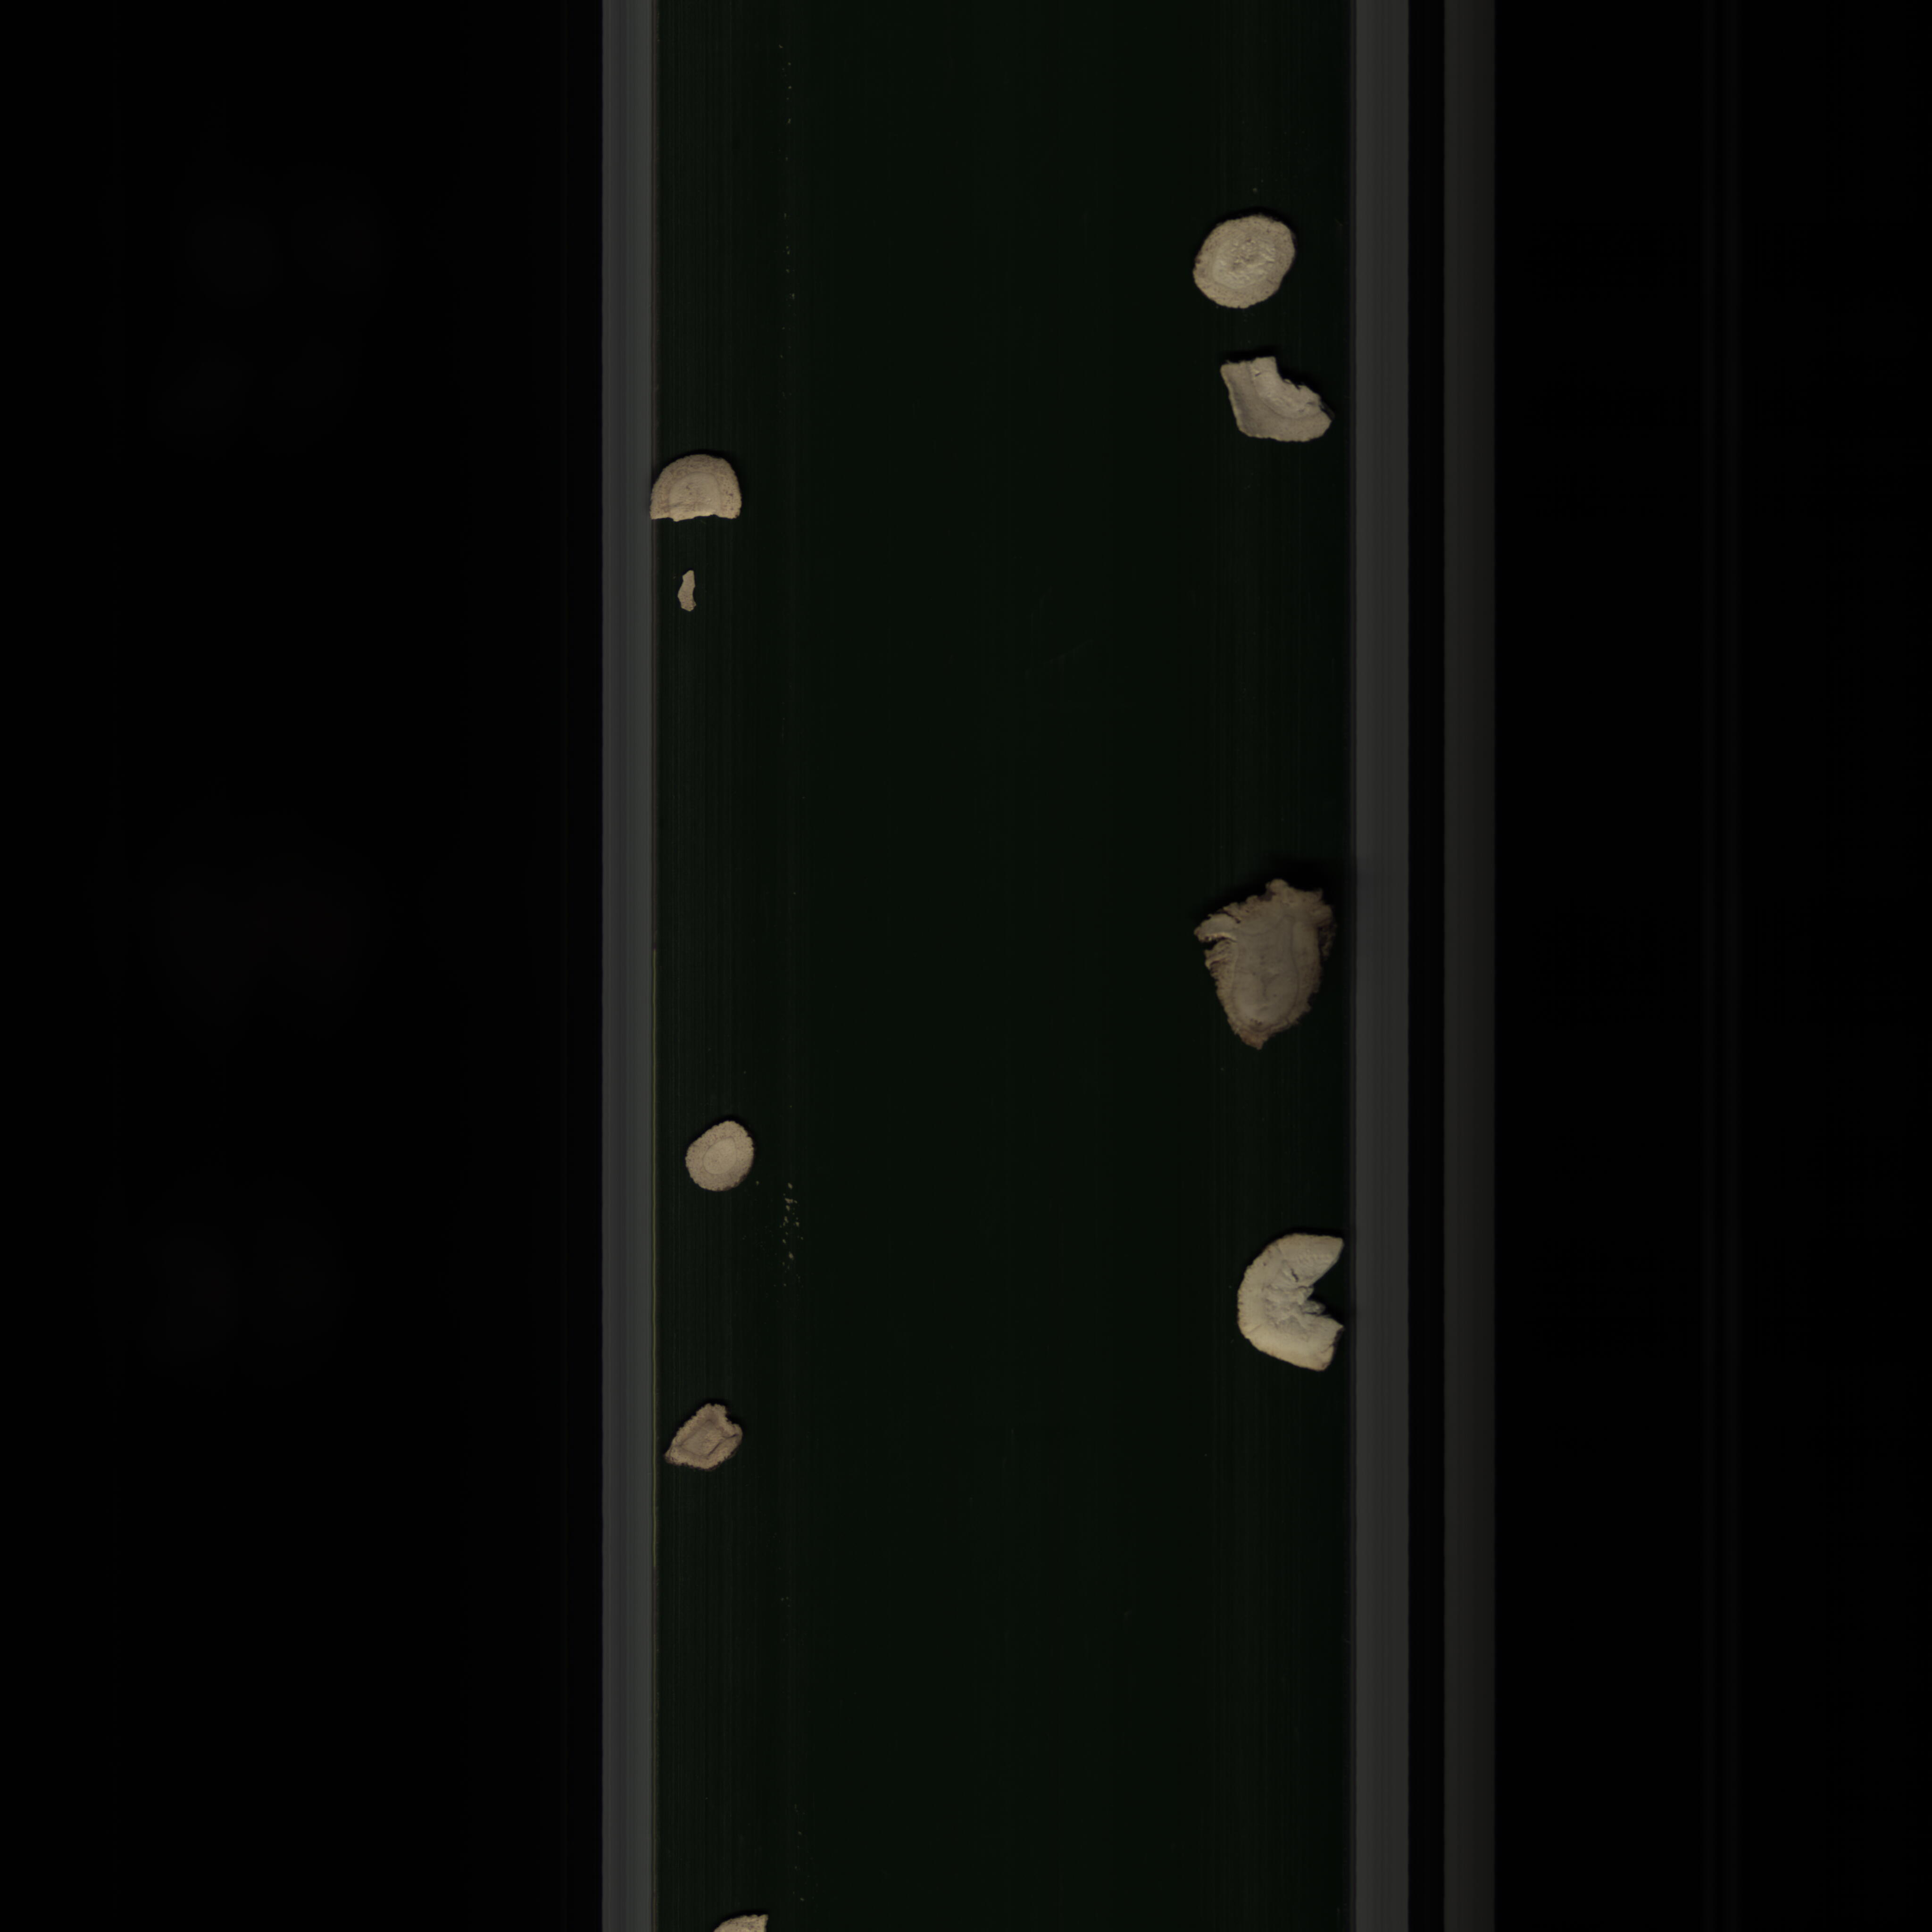bark: (669, 564, 702, 619)
debris: (1207, 349, 1345, 455), (644, 444, 752, 534)
